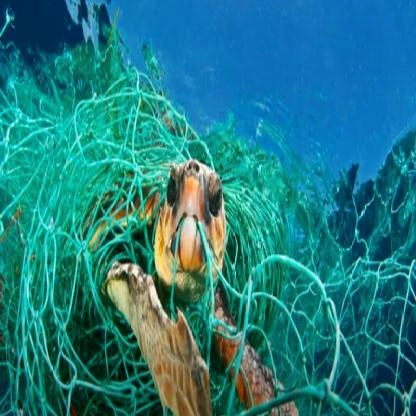net: (229, 172, 416, 416), (21, 96, 158, 388)
